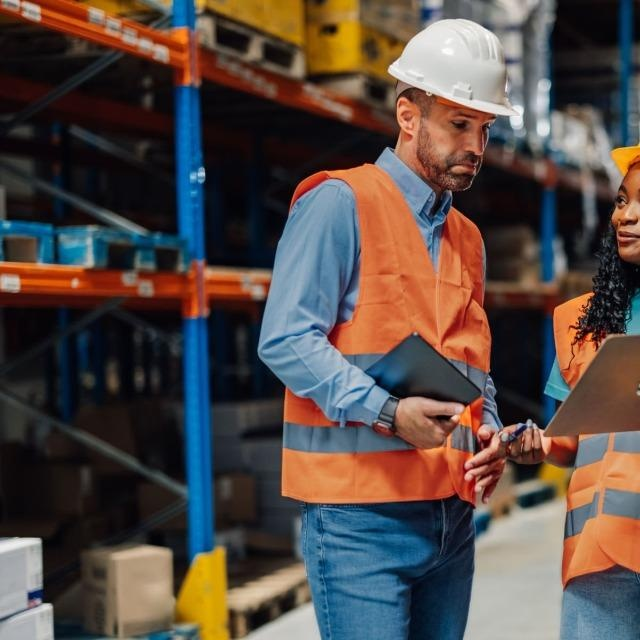Con_Casco: (389, 17, 517, 189)
Con_Chaleco: (271, 171, 489, 503)
